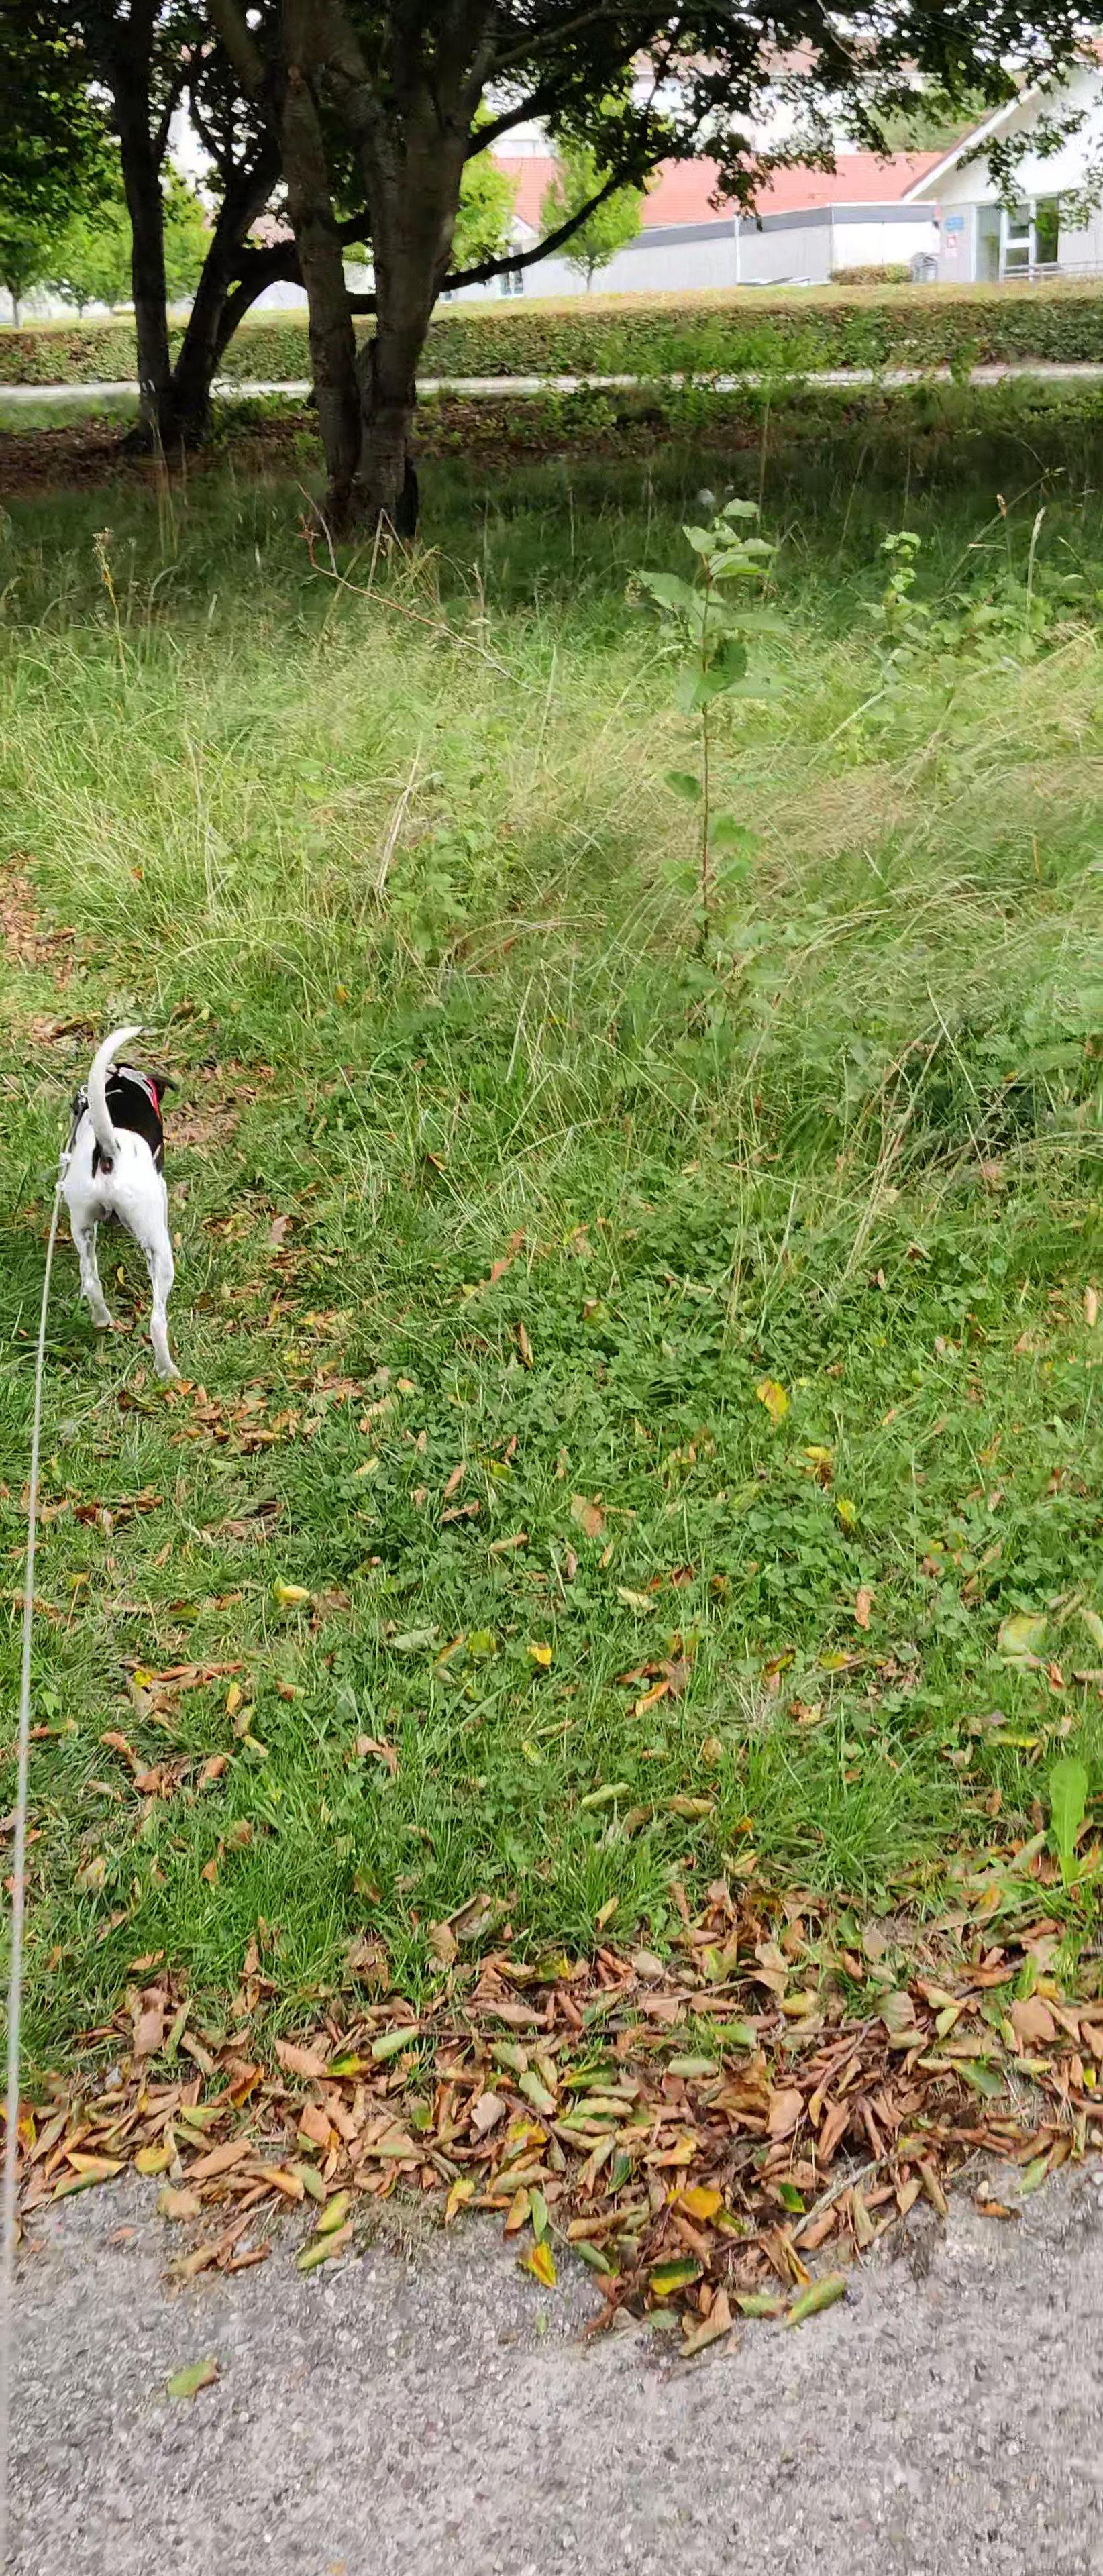Dog: (54, 1020, 186, 1388)
